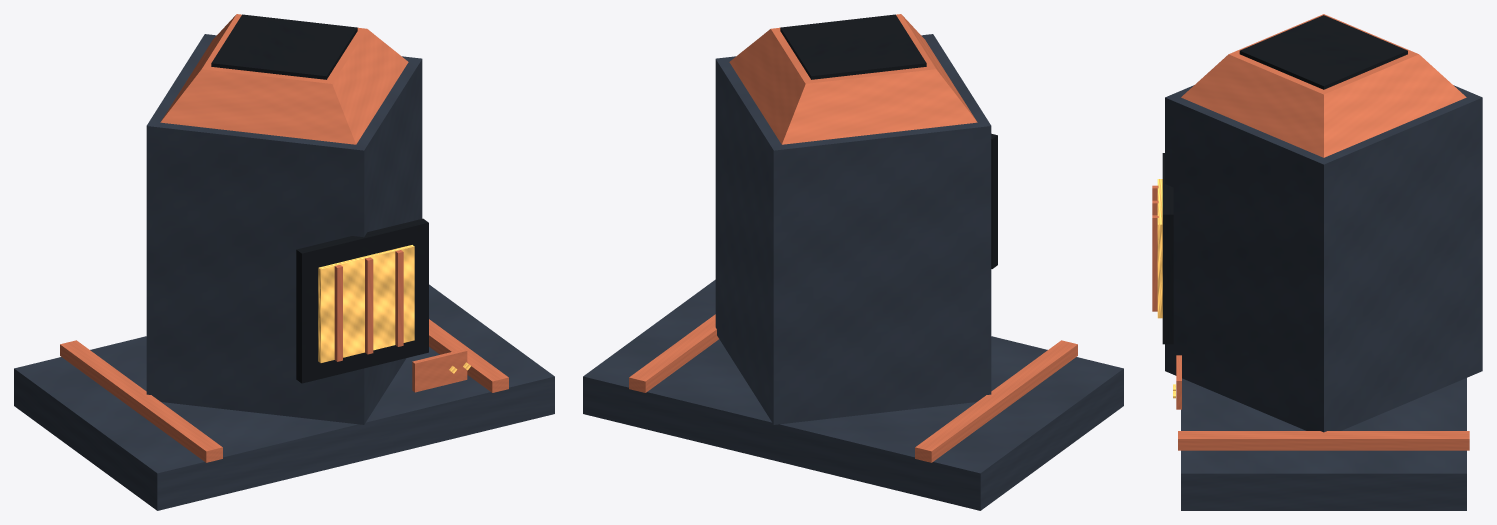
Rendered from atlas100-s026-a01.lod1.glb.
3 renders of one model, left to right at view 1: azimuth 30°, elevation 25°; view 2: azimuth 150°, elevation 25°; view 3: azimuth 270°, elevation 25°, orthographic.
Visible parts, largest first — view 1: atlas100-s026-a01:part-003, atlas100-s026-a01:part-000, atlas100-s026-a01:part-004, atlas100-s026-a01:part-006, atlas100-s026-a01:part-007, atlas100-s026-a01:part-005, atlas100-s026-a01:part-001, atlas100-s026-a01:part-002, atlas100-s026-a01:part-011, atlas100-s026-a01:part-008, atlas100-s026-a01:part-009, atlas100-s026-a01:part-010; view 2: atlas100-s026-a01:part-003, atlas100-s026-a01:part-000, atlas100-s026-a01:part-004, atlas100-s026-a01:part-005, atlas100-s026-a01:part-001, atlas100-s026-a01:part-002, atlas100-s026-a01:part-006; view 3: atlas100-s026-a01:part-003, atlas100-s026-a01:part-000, atlas100-s026-a01:part-004, atlas100-s026-a01:part-005, atlas100-s026-a01:part-002, atlas100-s026-a01:part-006, atlas100-s026-a01:part-007, atlas100-s026-a01:part-010.
Part boxes in pixels (x1=…): atlas100-s026-a01:part-003: x1=146, y1=34, x2=422, y2=424; atlas100-s026-a01:part-000: x1=14, y1=284, x2=554, y2=510; atlas100-s026-a01:part-004: x1=160, y1=14, x2=408, y2=144; atlas100-s026-a01:part-006: x1=296, y1=218, x2=428, y2=383; atlas100-s026-a01:part-007: x1=318, y1=245, x2=414, y2=362; atlas100-s026-a01:part-005: x1=211, y1=14, x2=357, y2=79; atlas100-s026-a01:part-001: x1=60, y1=340, x2=222, y2=462; atlas100-s026-a01:part-002: x1=429, y1=319, x2=508, y2=392; atlas100-s026-a01:part-011: x1=412, y1=349, x2=467, y2=392; atlas100-s026-a01:part-008: x1=334, y1=264, x2=342, y2=361; atlas100-s026-a01:part-009: x1=365, y1=257, x2=373, y2=354; atlas100-s026-a01:part-010: x1=395, y1=250, x2=403, y2=346; atlas100-s026-a01:part-003: x1=715, y1=34, x2=991, y2=424; atlas100-s026-a01:part-000: x1=583, y1=279, x2=1123, y2=510; atlas100-s026-a01:part-004: x1=729, y1=14, x2=977, y2=144; atlas100-s026-a01:part-005: x1=780, y1=14, x2=926, y2=79; atlas100-s026-a01:part-001: x1=915, y1=340, x2=1077, y2=462; atlas100-s026-a01:part-002: x1=629, y1=314, x2=718, y2=392; atlas100-s026-a01:part-006: x1=991, y1=133, x2=997, y2=268; atlas100-s026-a01:part-003: x1=1165, y1=85, x2=1482, y2=432; atlas100-s026-a01:part-000: x1=1181, y1=378, x2=1466, y2=510; atlas100-s026-a01:part-004: x1=1181, y1=14, x2=1466, y2=157; atlas100-s026-a01:part-005: x1=1239, y1=15, x2=1407, y2=89; atlas100-s026-a01:part-002: x1=1178, y1=431, x2=1469, y2=450; atlas100-s026-a01:part-006: x1=1162, y1=153, x2=1173, y2=344; atlas100-s026-a01:part-007: x1=1157, y1=179, x2=1162, y2=318; atlas100-s026-a01:part-010: x1=1152, y1=215, x2=1158, y2=311.
Bounding box in the file's own units: 2.88 × 2.53 × 2.08.
Materials: 4 (4 with a texture image).
